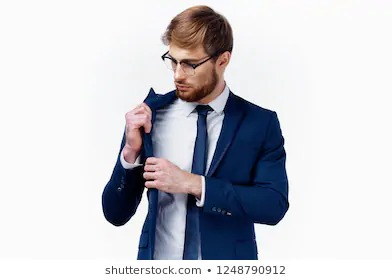F_M_suit jacket: (100, 77, 293, 261)
F_tie: (189, 102, 210, 263)
